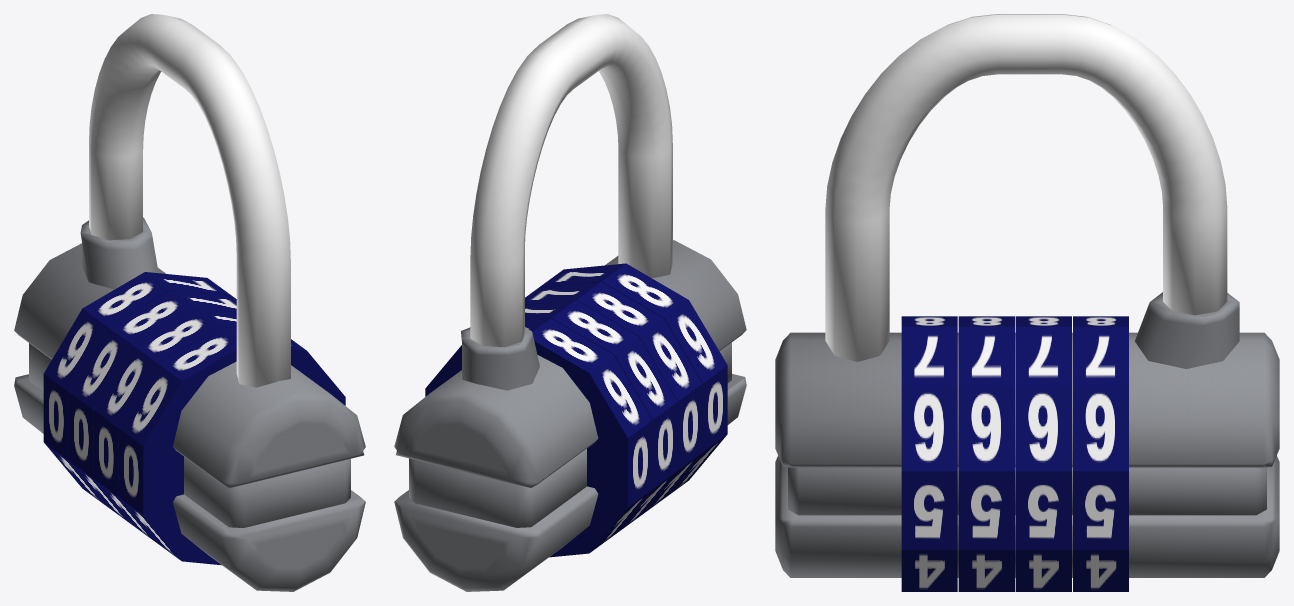
The model's file is CombinationLock.gltf.
The picture shows the model from 3 angles, left to right: view 1: azimuth 30°, elevation 25°; view 2: azimuth 150°, elevation 25°; view 3: azimuth 270°, elevation 25°; orthographic projection. The views are drawn at different scales.
Visible parts, largest first — view 1: lock, hoop metal lock, 4th wheel, 1st wheel, 2d wheel, 3rd wheel; view 2: lock, hoop metal lock, 1st wheel, 4th wheel, 3rd wheel, 2d wheel; view 3: lock, hoop metal lock, 2d wheel, 3rd wheel, 4th wheel, 1st wheel.
Part boxes in pixels (x1,y1,x2,y2): lock: (14,217,365,591); hoop metal lock: (89,14,290,387); 4th wheel: (118,326,345,565); 1st wheel: (43,272,231,505); 2d wheel: (68,290,236,524); 3rd wheel: (93,308,236,542); lock: (394,240,746,591); hoop metal lock: (470,14,672,347); 1st wheel: (425,318,652,557); 4th wheel: (539,263,727,497); 3rd wheel: (525,282,702,516); 2d wheel: (525,300,677,534); lock: (775,292,1279,577); hoop metal lock: (825,14,1227,361); 2d wheel: (1015,316,1071,591); 3rd wheel: (958,316,1014,591); 4th wheel: (901,316,957,591); 1st wheel: (1073,316,1128,591).
Bounding box in the file's own units: 2.75 × 6.43 × 5.19.
3 materials, 2 textured.
